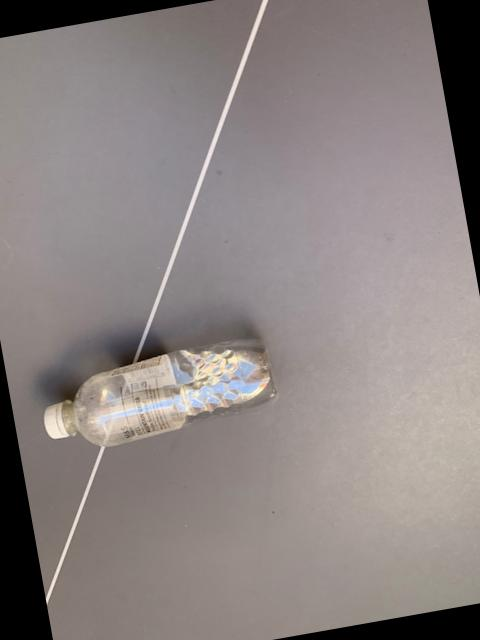plastic: (46, 340, 278, 447)
